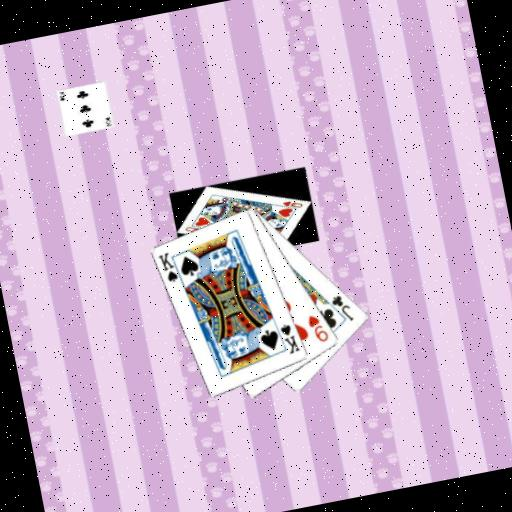9H: (304, 309, 332, 346)
JC: (328, 290, 357, 326)
KS: (155, 247, 185, 287), (277, 319, 303, 357)
